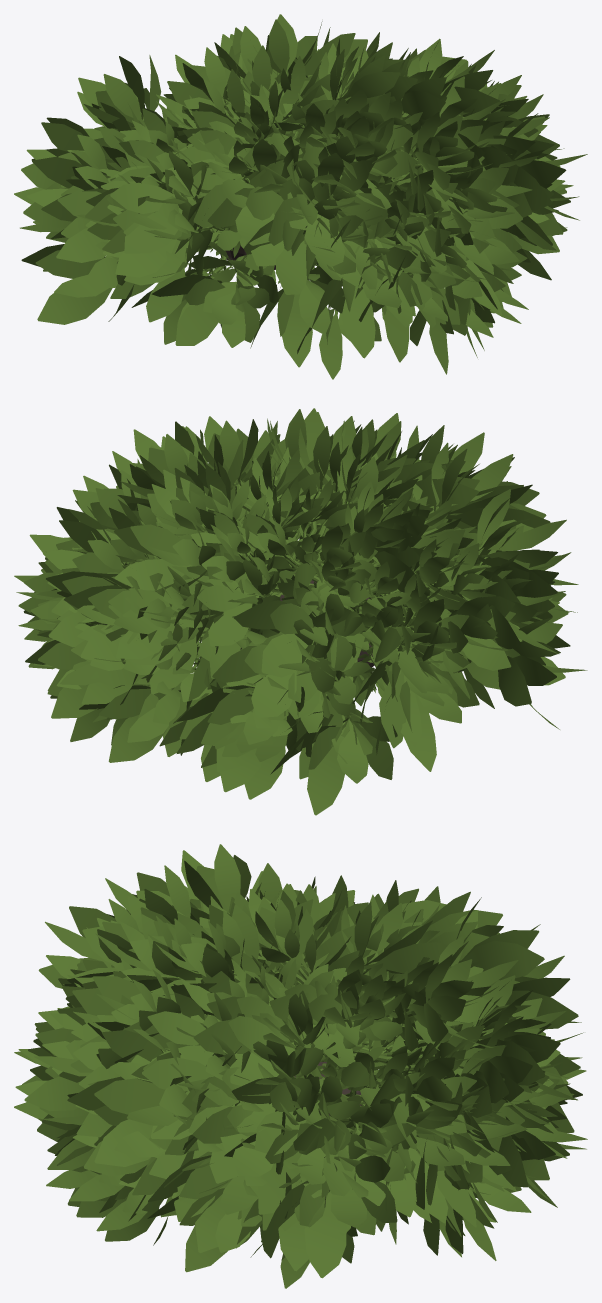
Rendered from Arbusto2.fbx.
The picture shows the model from 3 angles, top to bottom: view 1: azimuth 30°, elevation 25°; view 2: azimuth 150°, elevation 25°; view 3: azimuth 270°, elevation 25°; orthographic projection. The views are drawn at different scales.
Parts seen in each view (by area): view 1: B2.002|HO1.001|Dupli|128, B2.002|HO1.001|Dupli|82, B2.002|HO1.001|Dupli|3, B2.002|HO1.001|Dupli|78, B2.002|HO1.001|Dupli|121, B2.002|HO1.001|Dupli|120, B2.002|HO1.001|Dupli|89, B2.002|HO1.001|Dupli|119, B2.002|HO1.001|Dupli|80, B2.002|HO1.001|Dupli|24, B2.002|HO1.001|Dupli|7, B2.002|HO1.001|Dupli|189 (+73 smaller); view 2: B2.002|HO1.001|Dupli|25, B2.002|HO1.001|Dupli|24, B2.002|HO1.001|Dupli|121, B2.002|HO1.001|Dupli|34, B2.002|HO1.001|Dupli|63, B2.002|HO1.001|Dupli|263, B2.002|HO1.001|Dupli|44, B2.002|HO1.001|Dupli|120, B2.002|HO1.001|Dupli|28, B2.002|HO1.001|Dupli|18, B2.002|HO1.001|Dupli|3, B2.002|HO1.001|Dupli|20 (+78 smaller); view 3: B2.002|HO1.001|Dupli|145, B2.002|HO1.001|Dupli|158, B2.002|HO1.001|Dupli|264, B2.002|HO1.001|Dupli|161, B2.002|HO1.001|Dupli|146, B2.002|HO1.001|Dupli|135, B2.002|HO1.001|Dupli|52, B2.002|HO1.001|Dupli|166, B2.002|HO1.001|Dupli|263, B2.002|HO1.001|Dupli|286, B2.002|HO1.001|Dupli|132, B2.002|HO1.001|Dupli|189 (+78 smaller).
Boxes of the visible parts, x1,y1,x2,y2 form: B2.002|HO1.001|Dupli|128: (268, 153, 388, 266); B2.002|HO1.001|Dupli|82: (151, 241, 269, 345); B2.002|HO1.001|Dupli|3: (21, 241, 216, 324); B2.002|HO1.001|Dupli|78: (311, 246, 422, 358); B2.002|HO1.001|Dupli|121: (85, 151, 207, 253); B2.002|HO1.001|Dupli|120: (193, 139, 314, 245); B2.002|HO1.001|Dupli|89: (242, 254, 345, 367); B2.002|HO1.001|Dupli|119: (207, 160, 339, 266); B2.002|HO1.001|Dupli|80: (244, 199, 363, 294); B2.002|HO1.001|Dupli|24: (78, 55, 191, 144); B2.002|HO1.001|Dupli|7: (87, 189, 229, 277); B2.002|HO1.001|Dupli|189: (389, 164, 522, 274); B2.002|HO1.001|Dupli|25: (270, 672, 397, 815); B2.002|HO1.001|Dupli|24: (234, 578, 362, 677); B2.002|HO1.001|Dupli|121: (366, 489, 578, 599); B2.002|HO1.001|Dupli|34: (212, 619, 336, 717); B2.002|HO1.001|Dupli|63: (79, 662, 198, 762); B2.002|HO1.001|Dupli|263: (114, 520, 276, 590); B2.002|HO1.001|Dupli|44: (64, 581, 188, 664); B2.002|HO1.001|Dupli|120: (373, 442, 550, 566); B2.002|HO1.001|Dupli|28: (177, 639, 306, 772); B2.002|HO1.001|Dupli|18: (387, 596, 515, 699); B2.002|HO1.001|Dupli|3: (498, 617, 587, 729); B2.002|HO1.001|Dupli|20: (358, 599, 470, 693); B2.002|HO1.001|Dupli|145: (261, 1122, 397, 1278); B2.002|HO1.001|Dupli|158: (67, 1049, 208, 1166); B2.002|HO1.001|Dupli|264: (193, 994, 328, 1086); B2.002|HO1.001|Dupli|161: (148, 1105, 291, 1252); B2.002|HO1.001|Dupli|146: (231, 1055, 360, 1155); B2.002|HO1.001|Dupli|135: (293, 1103, 416, 1196); B2.002|HO1.001|Dupli|52: (352, 1052, 476, 1149); B2.002|HO1.001|Dupli|166: (341, 1094, 474, 1223); B2.002|HO1.001|Dupli|263: (380, 954, 498, 1047); B2.002|HO1.001|Dupli|286: (341, 902, 447, 973); B2.002|HO1.001|Dupli|132: (224, 1115, 366, 1214); B2.002|HO1.001|Dupli|189: (24, 1017, 121, 1110).
Size of the model in its own units: 961 by 449 by 822.
